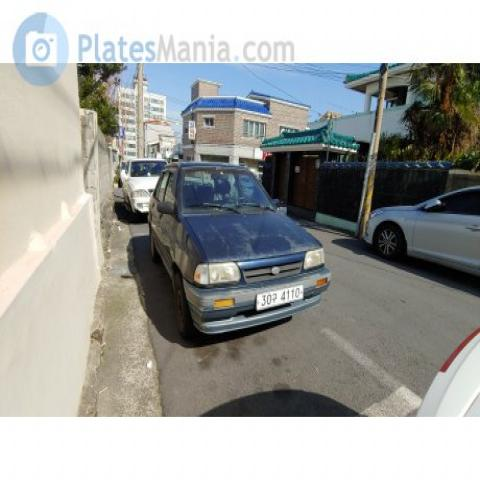LP: (253, 276, 312, 316)
